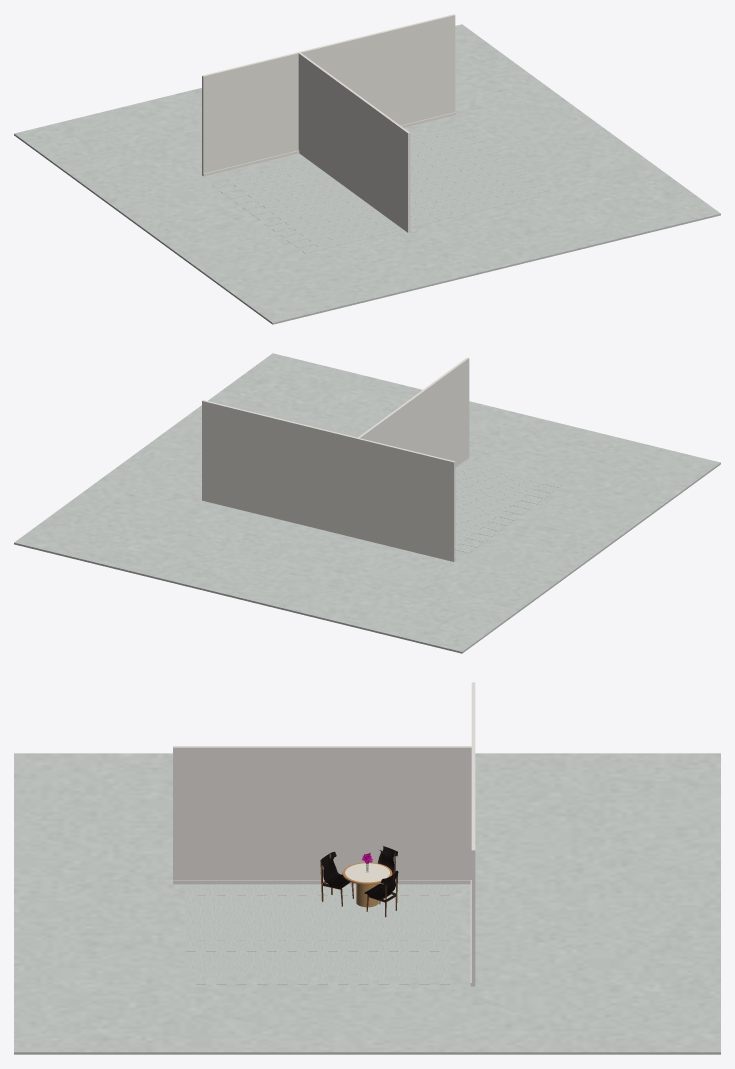
File: viga.glb
3 views of the same model, one above another, from view 1: azimuth 30°, elevation 25°; view 2: azimuth 150°, elevation 25°; view 3: azimuth 270°, elevation 25° (orthographic). The views are drawn at different scales.
Parts seen in each view (by area): view 1: Continuous floor foundation, Rear wall, Left wall, Rear baseboard; view 2: Continuous floor foundation, Rear wall, Left wall; view 3: Continuous floor foundation, Left wall, Rear wall, Left baseboard, Foreground complete chair, Ivory inset, brown_upholstered_chair_mesh.
Part boxes in pixels (<box>): Continuous floor foundation: <box>14,24,720,324</box>; Rear wall: <box>202,14,455,175</box>; Left wall: <box>298,52,410,232</box>; Rear baseboard: <box>203,112,455,176</box>; Continuous floor foundation: <box>14,353,720,653</box>; Rear wall: <box>202,400,455,561</box>; Left wall: <box>357,357,469,467</box>; Continuous floor foundation: <box>14,753,720,1054</box>; Left wall: <box>173,746,473,880</box>; Rear wall: <box>471,682,475,986</box>; Left baseboard: <box>173,880,471,884</box>; Foreground complete chair: <box>320,851,353,906</box>; Ivory inset: <box>345,863,389,882</box>; brown_upholstered_chair_mesh: <box>364,870,398,917</box>.
Bounding box in the file's own units: 16 × 3.47 × 16.
Materials: 196 (189 with a texture image).
